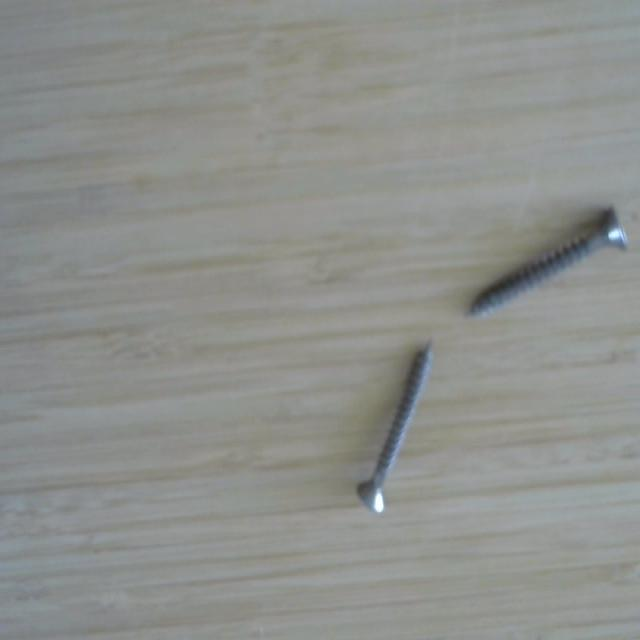Black screw: (459, 194, 637, 329), (347, 327, 445, 524)
